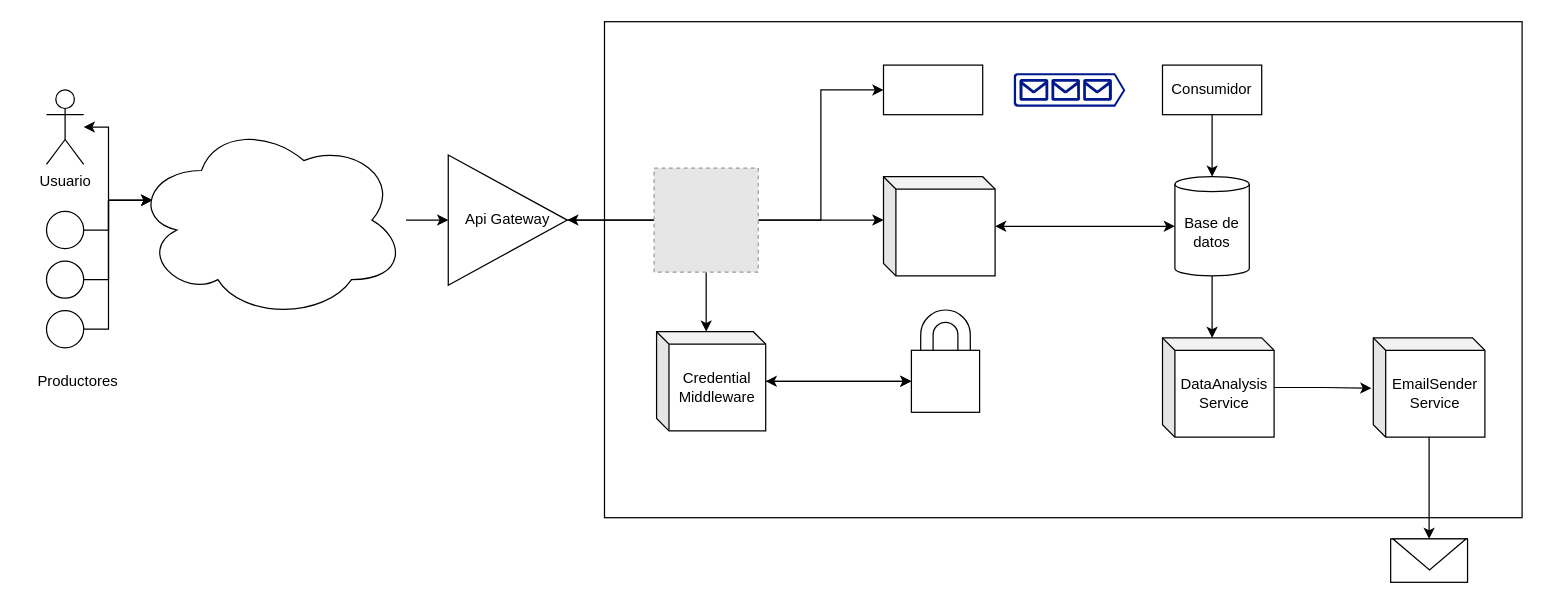
Image size: 1544x605. Some labels were removed from this diagram. Grey dashed boxes stand in for pictures. Here are the shapes that lost their labels. From the top down, the centre of each, then its label:
At (x=932, y=89): "Productor".
At (x=269, y=219): "Internet".
At (x=938, y=225): "DataRetrieval Service".
At (x=945, y=380): "JWT Service".
